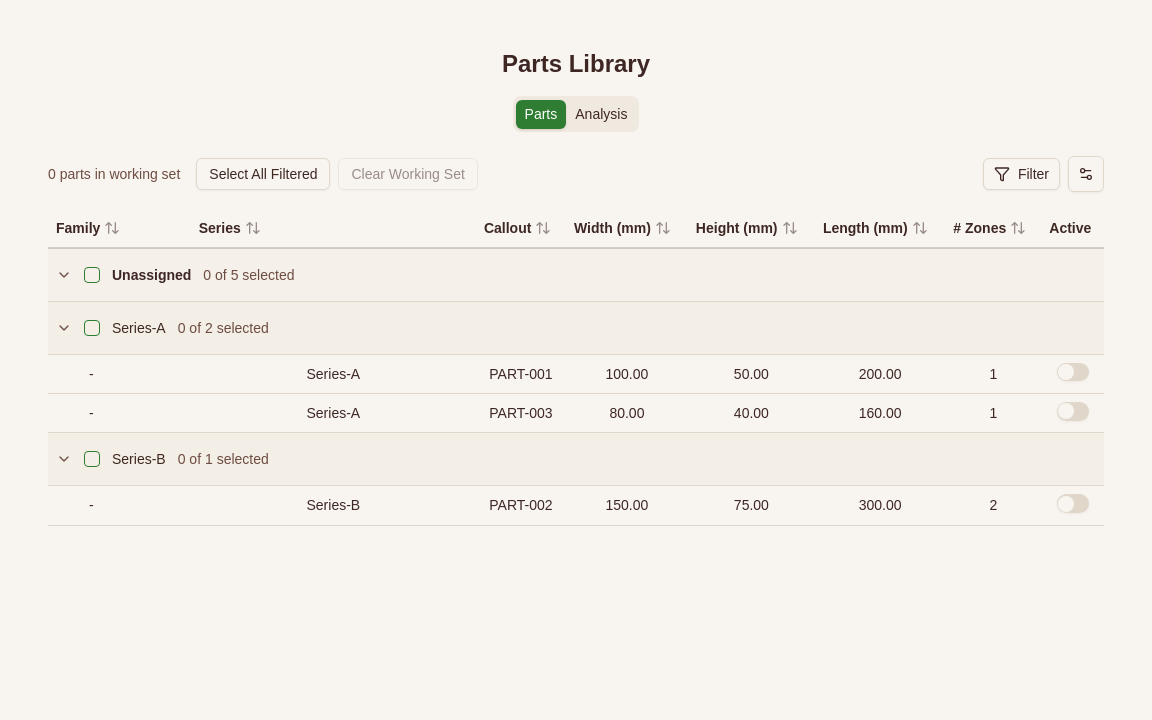
Test: Parts Library Page › AC-2.7.2: Floating Filter Panel › opens filter panel when filter chip is clicked
Expected: the text "PART-001" is shown, x1=476 y1=354 x2=566 y2=394
# Click the filter button (use aria-label to be specific)
Click the button with aria-label "open filter panel" at (1021, 174), box x1=983 y1=158 x2=1060 y2=190
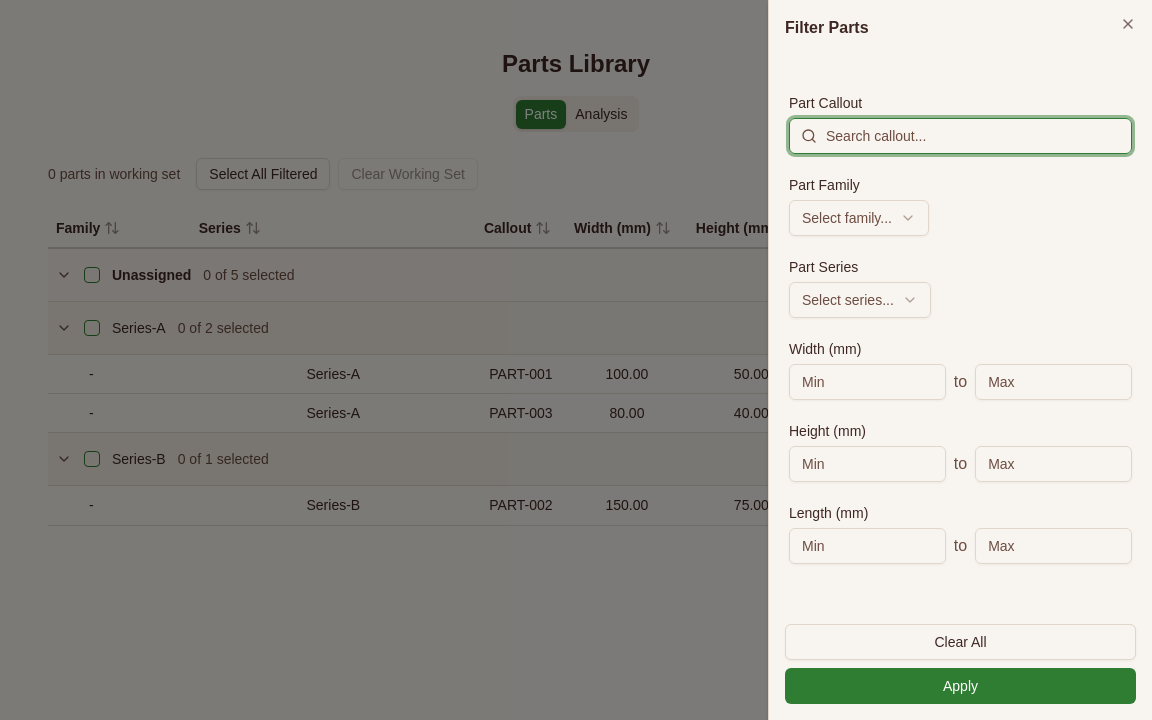
Result: the heading "Filter Parts" is shown at x1=785 y1=19 x2=869 y2=36
